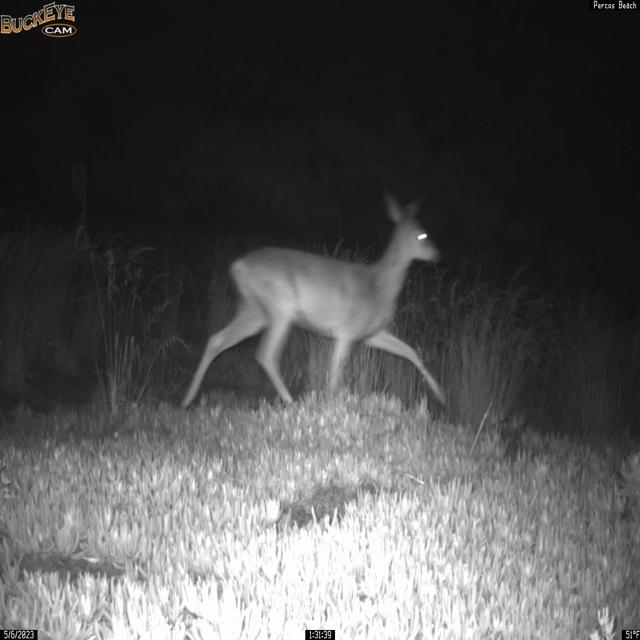deer: (179, 188, 448, 411)
